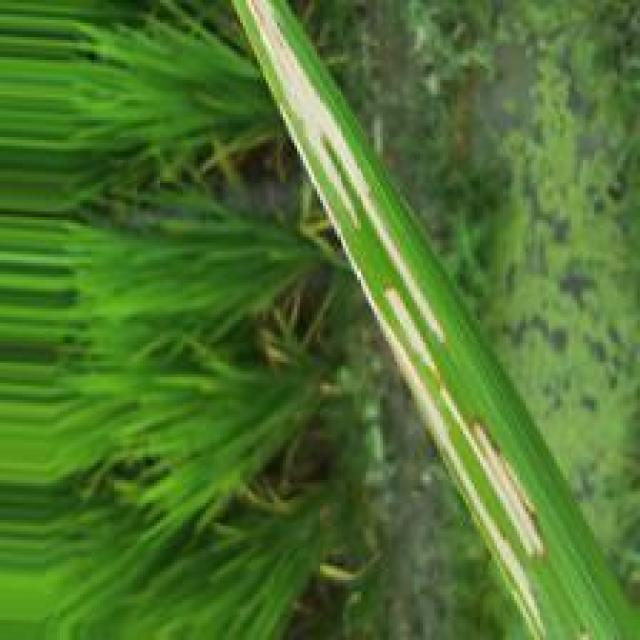Rice_Hispa: (242, 0, 453, 343), (360, 293, 548, 639), (377, 281, 548, 569)
